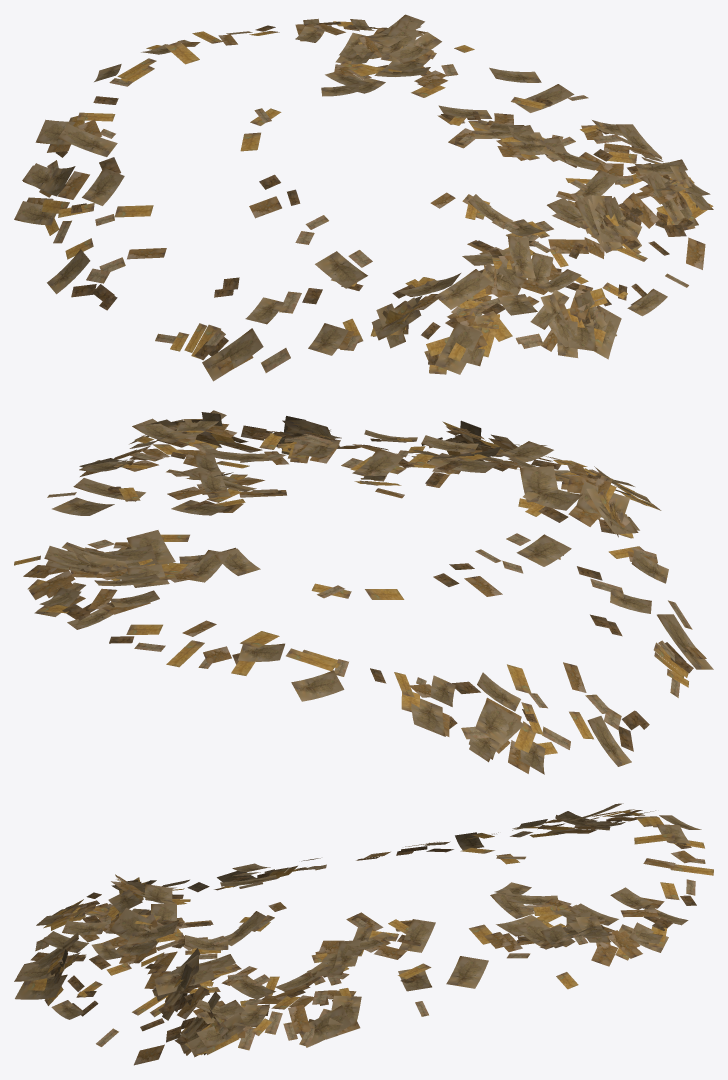
Rendered from leaves2.fbx.
3 renders of one model, top to bottom at view 1: azimuth 30°, elevation 25°; view 2: azimuth 150°, elevation 25°; view 3: azimuth 270°, elevation 25°, orthographic. The views are drawn at different scales.
Parts seen in each view (by area): view 1: tyFlow_node_373; view 2: tyFlow_node_373; view 3: tyFlow_node_373.
Part boxes in pixels (left/top/right/bottom): tyFlow_node_373: left=14, top=14, right=713, bottom=381; tyFlow_node_373: left=14, top=410, right=713, bottom=774; tyFlow_node_373: left=14, top=803, right=713, bottom=1065.
Bounding box in the file's own units: 51.93 × 12.93 × 58.37.
